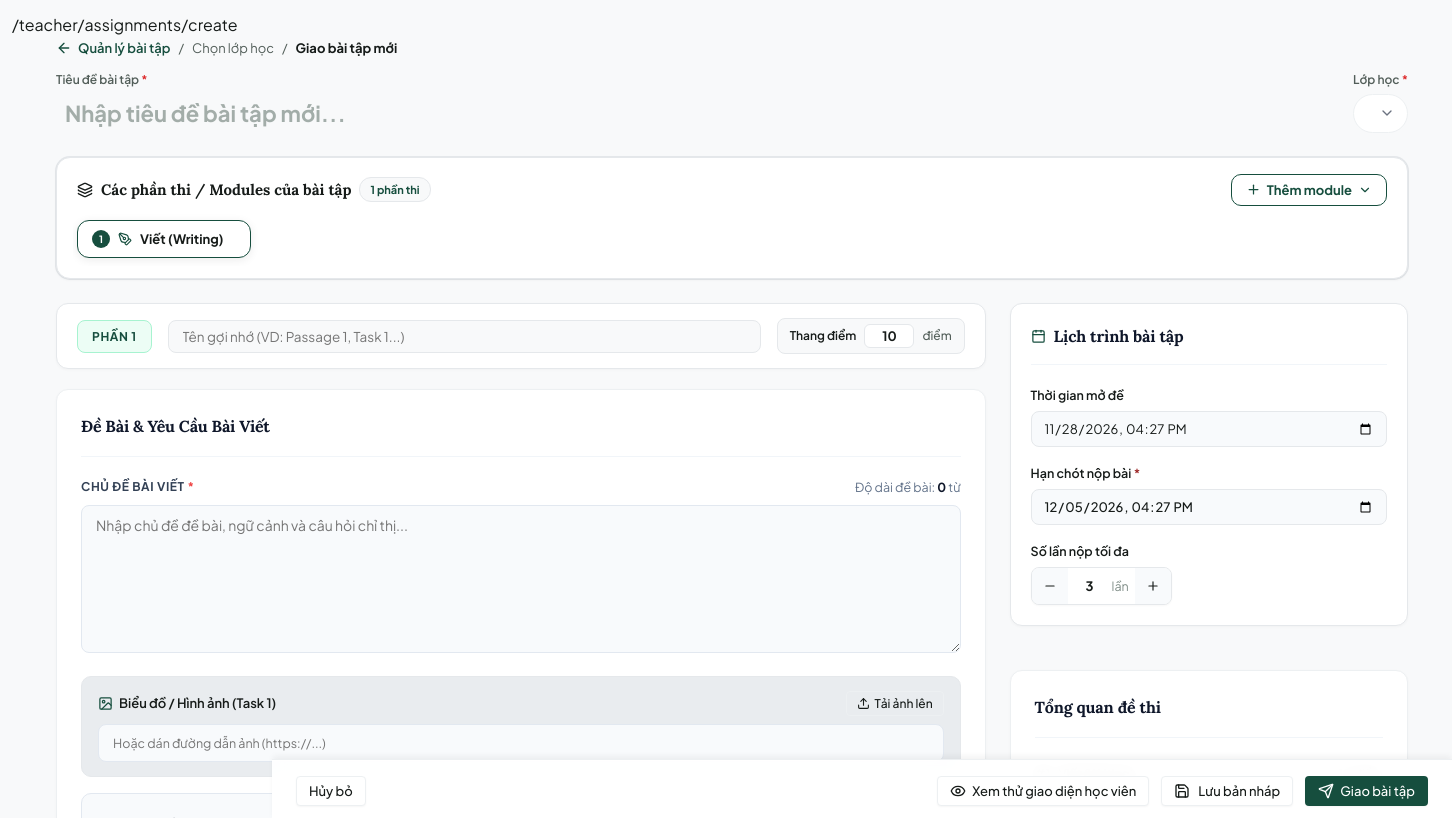
FE-108 Assignment Filters, Creation Guard & AI Refresh › Issue #209: Block publishing when module creation fails › halts publishing and keeps assignment in DRAFT if module creation throws
The image size is (1452, 818).
Type "New Test Assignment" into the field with placeholder "Nhập tiêu đề bài tập mới..." at {"x": 396, "y": 113}, box left=56, top=94, right=736, bottom=132
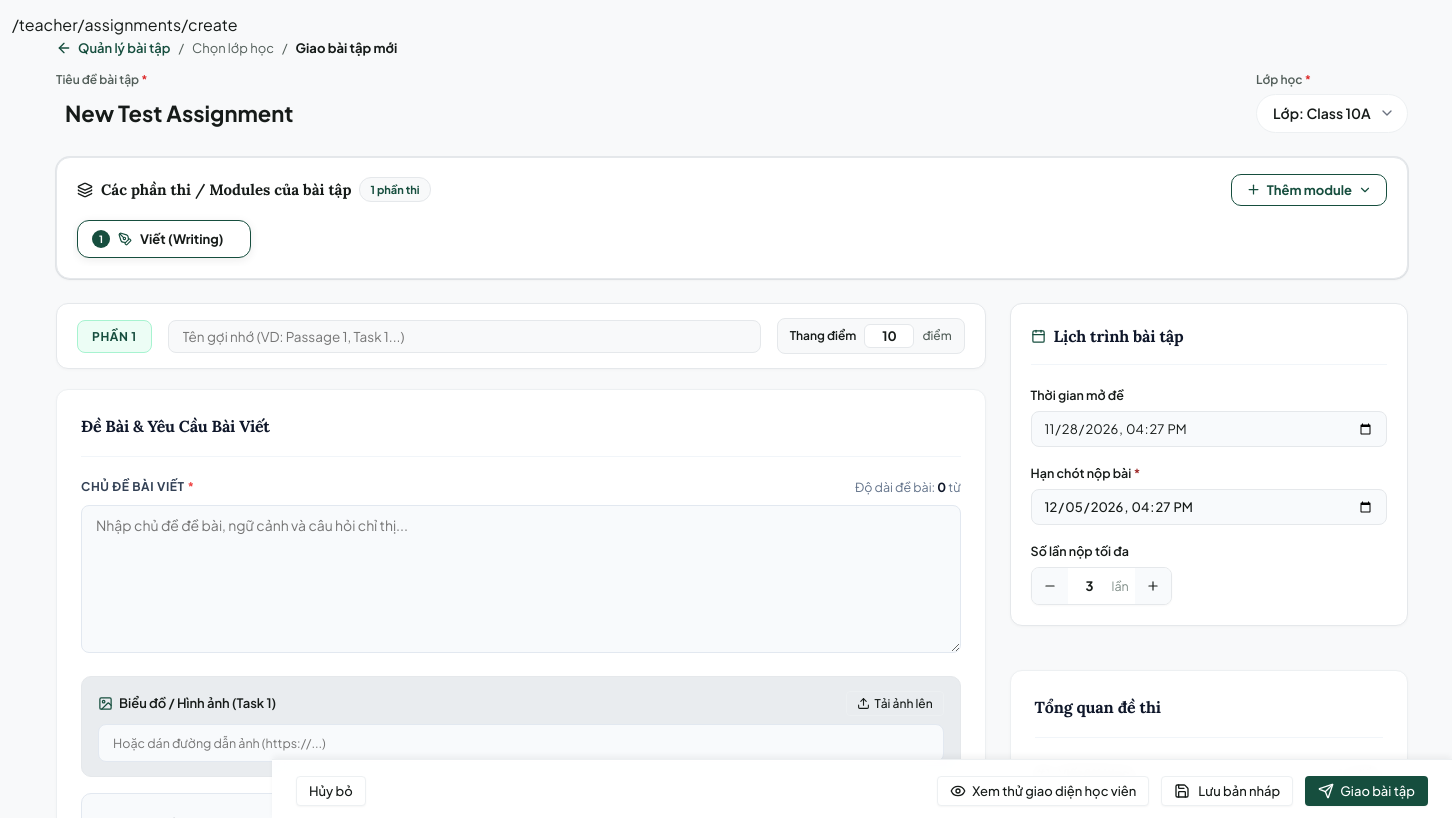
Type "Write an essay about AI and education." into the text box with placeholder "Nhập chủ đề đề bài, ngữ cảnh và câu hỏi chỉ thị..." at {"x": 521, "y": 579}, box left=81, top=505, right=961, bottom=653
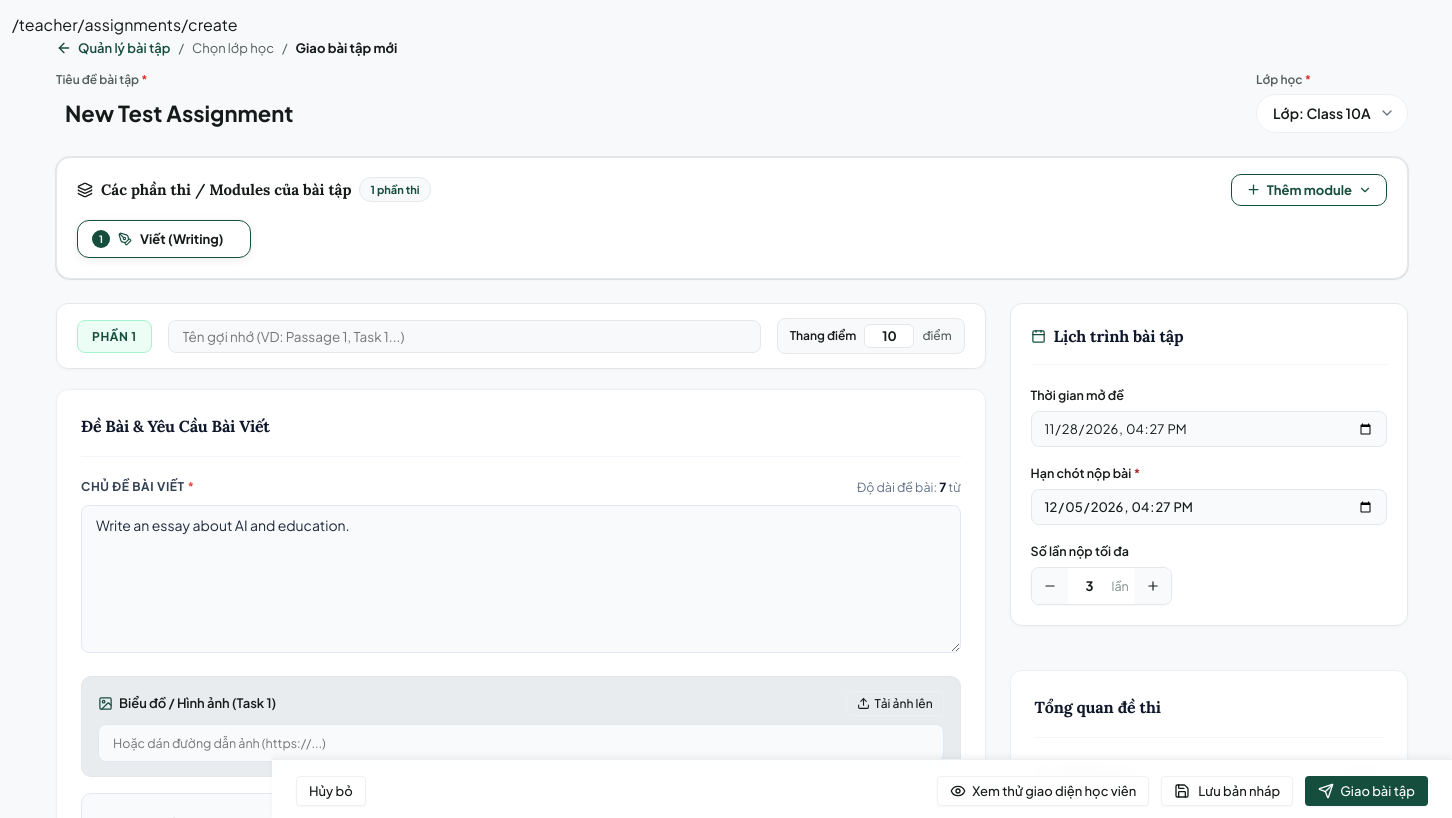
# Click Publish / Assign button ("Giao bài tập")
Click the button "Giao bài tập" at {"x": 1367, "y": 791}, box left=1305, top=776, right=1428, bottom=806
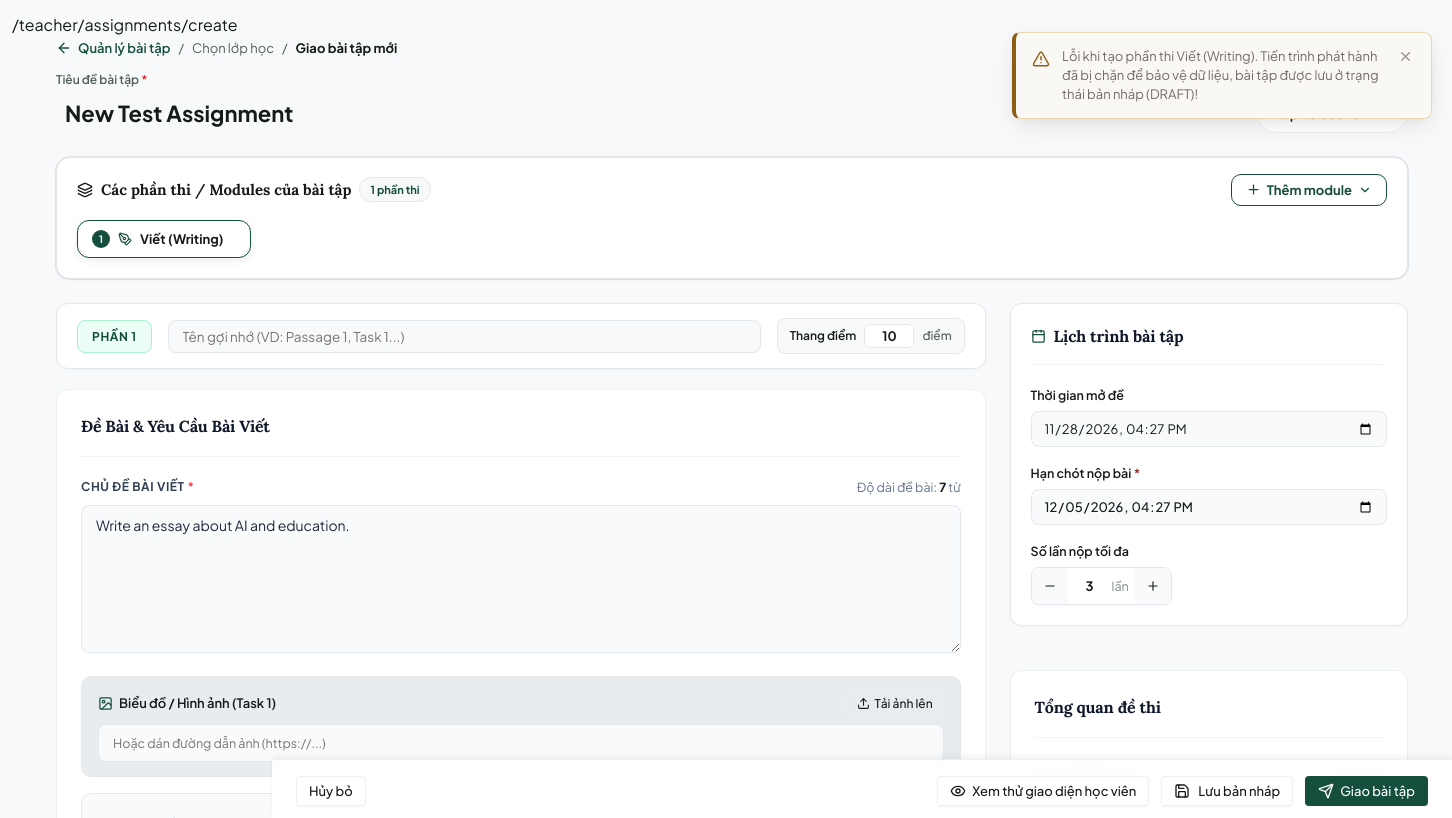
Expected: the text "Tiến trình phát hành đã bị chặn để bảo vệ dữ liệu" is shown, left=1062, top=48, right=1378, bottom=102
